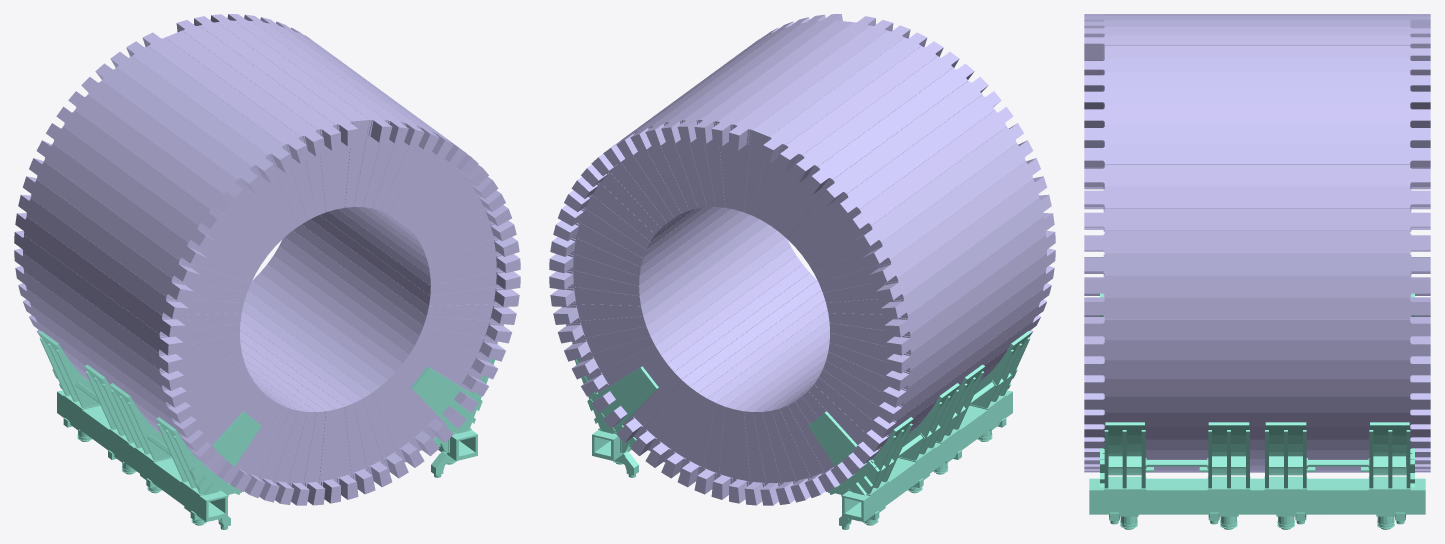
The model's file is Tile-Barrel.gltf.
3 renders of one model, left to right at view 1: azimuth 30°, elevation 25°; view 2: azimuth 150°, elevation 25°; view 3: azimuth 270°, elevation 25°, orthographic. The views are drawn at different scales.
Parts seen in each view (by area): view 1: _1F3B40D8, _065AC968; view 2: _1F3B40D8, _065AC968; view 3: _1F3B40D8, _065AC968.
Part boxes in pixels (box(x1,y1,x2,y2)): _1F3B40D8: box(14, 14, 520, 505); _065AC968: box(39, 331, 495, 529); _1F3B40D8: box(549, 14, 1055, 505); _065AC968: box(574, 331, 1030, 529); _1F3B40D8: box(1084, 14, 1430, 472); _065AC968: box(1089, 293, 1425, 529).
Bounding box in the file's own units: 8.47 × 8.73 × 6.39.
